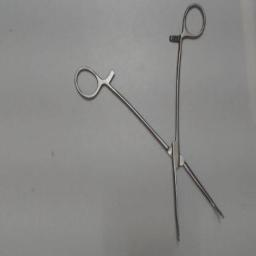Lahey Forceps: (72, 0, 234, 244)
